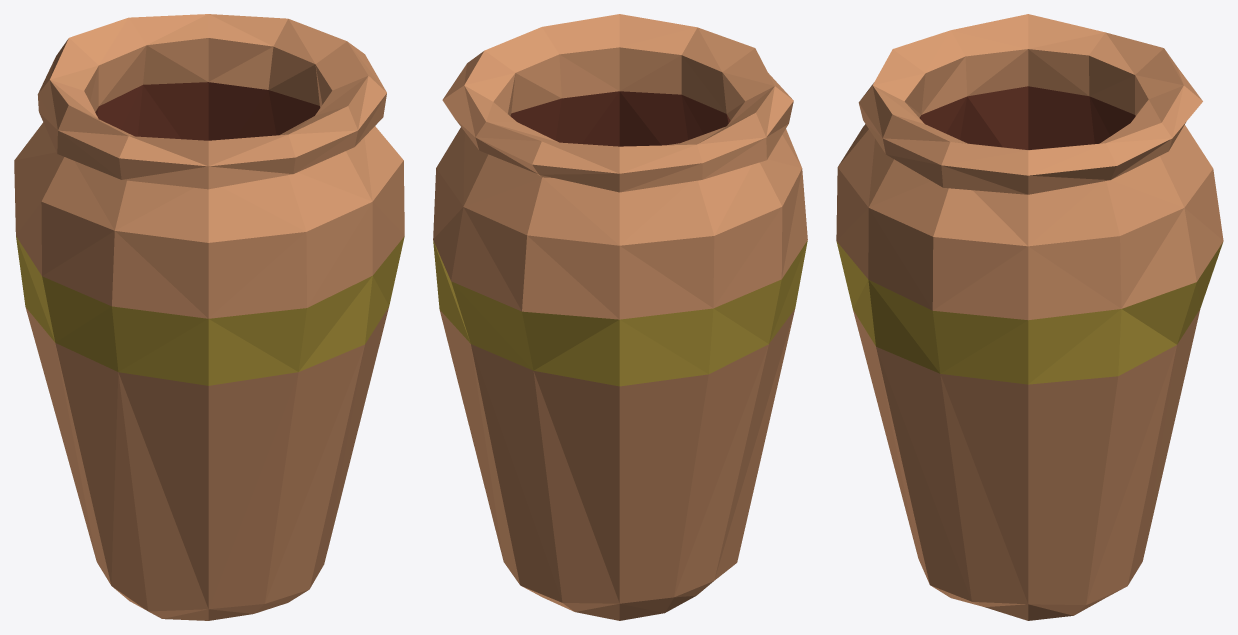
Rendered from Jarron-2.FBX.
3 views of the same model, side by side, from view 1: azimuth 30°, elevation 25°; view 2: azimuth 150°, elevation 25°; view 3: azimuth 270°, elevation 25° (orthographic). The views are drawn at different scales.
Visible parts, largest first — view 1: Jarron-2; view 2: Jarron-2; view 3: Jarron-2.
Part boxes in pixels (x1,y1,x2,y2): Jarron-2: (14,14,404,620); Jarron-2: (433,14,807,620); Jarron-2: (836,14,1223,620).
Size of the model in its own units: 69.39 by 102 by 71.5.
1 material, 1 textured.
